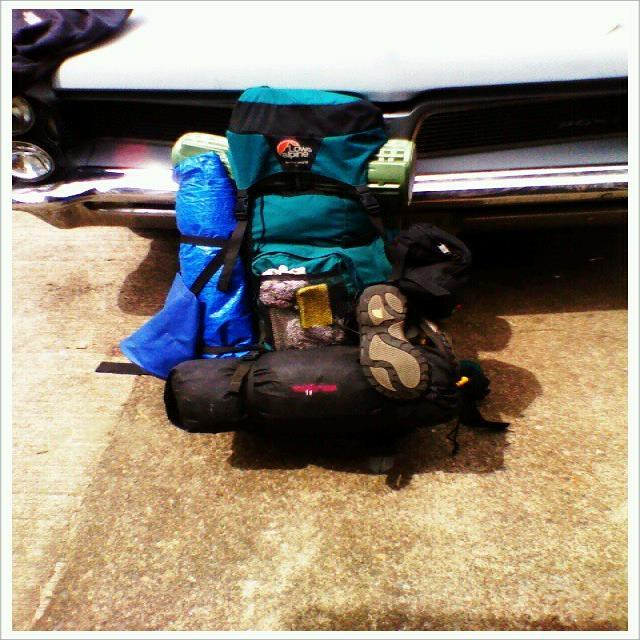Backpacks: (174, 85, 441, 448)
